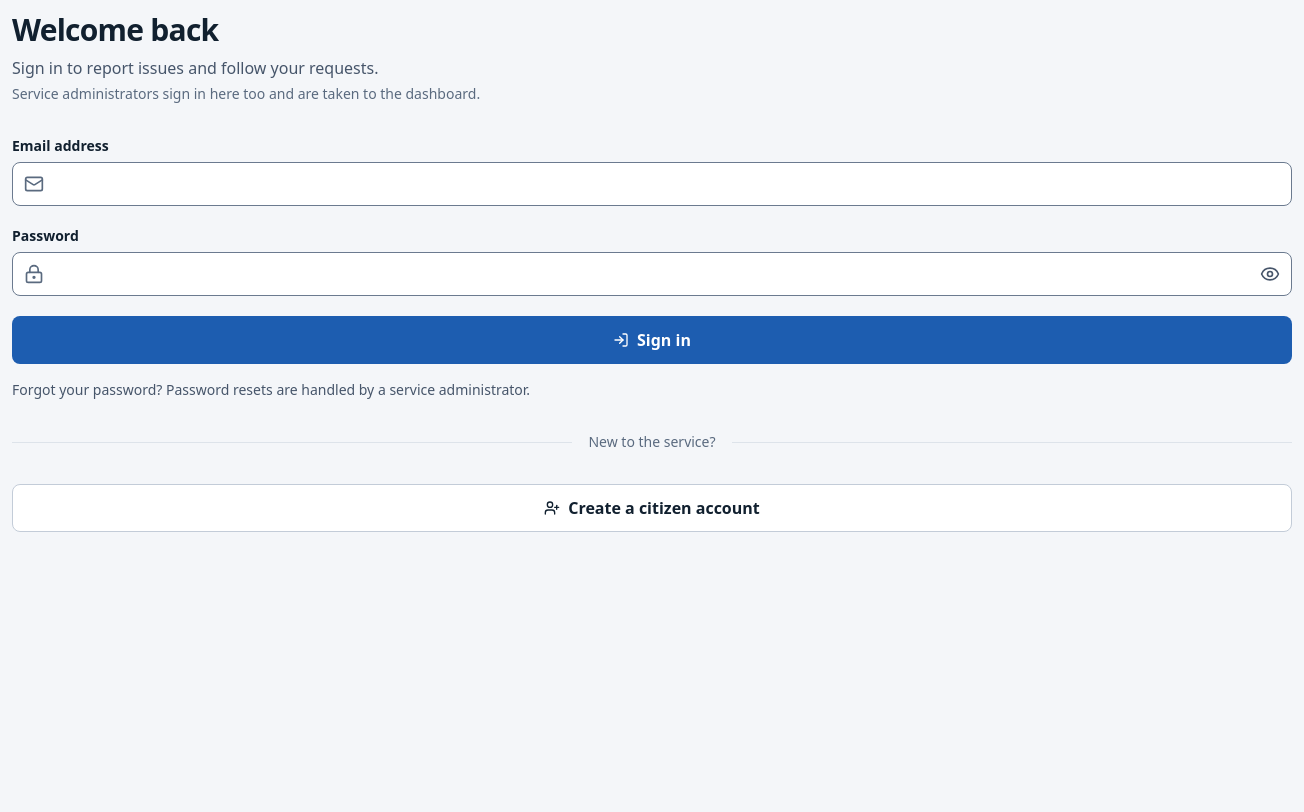
Test: LoginPage › shows the server's generic message for wrong credentials
The width and height of the screenshot is (1304, 812).
Type "amina@example.test" into the field labelled "Email address" at (652, 184), box [12,162,1292,206]
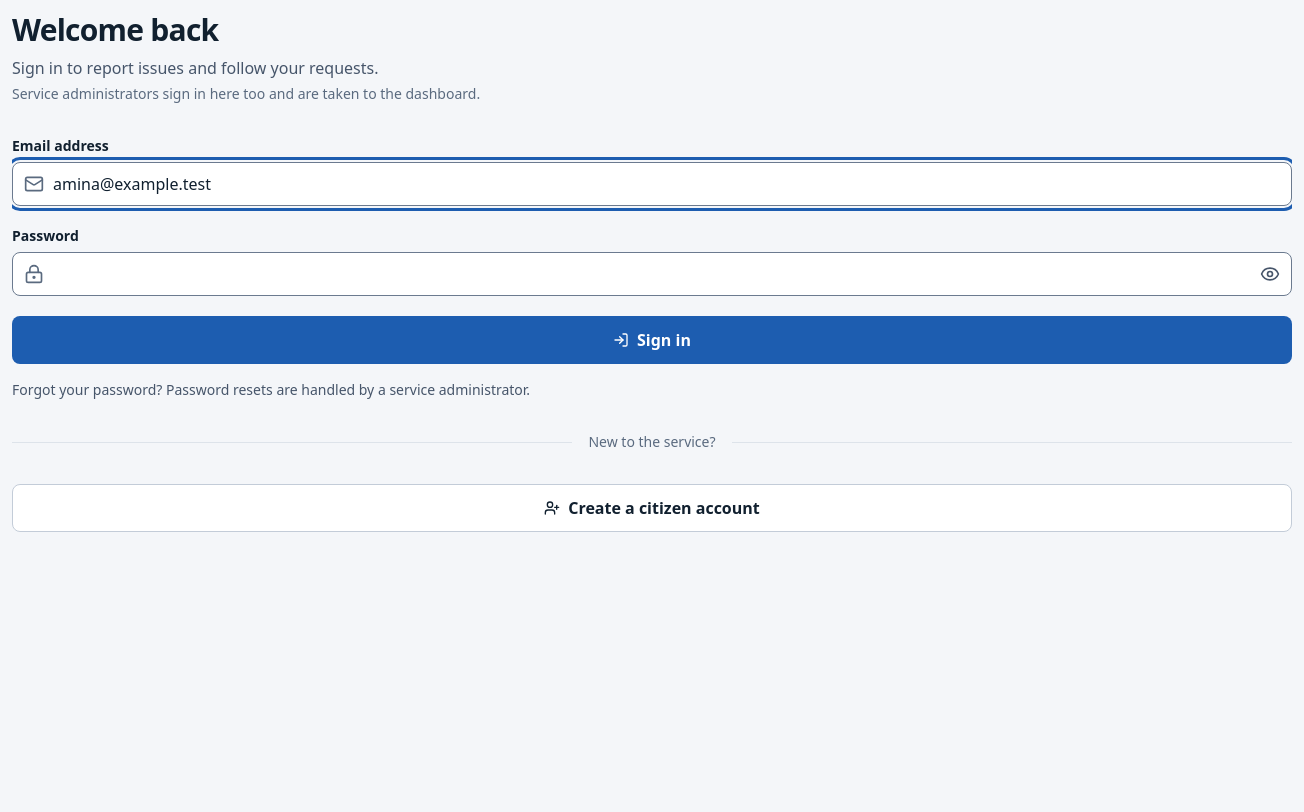
Type "wrong-pass-1" into the password field labelled "Password" at (652, 274), box [12,252,1292,296]
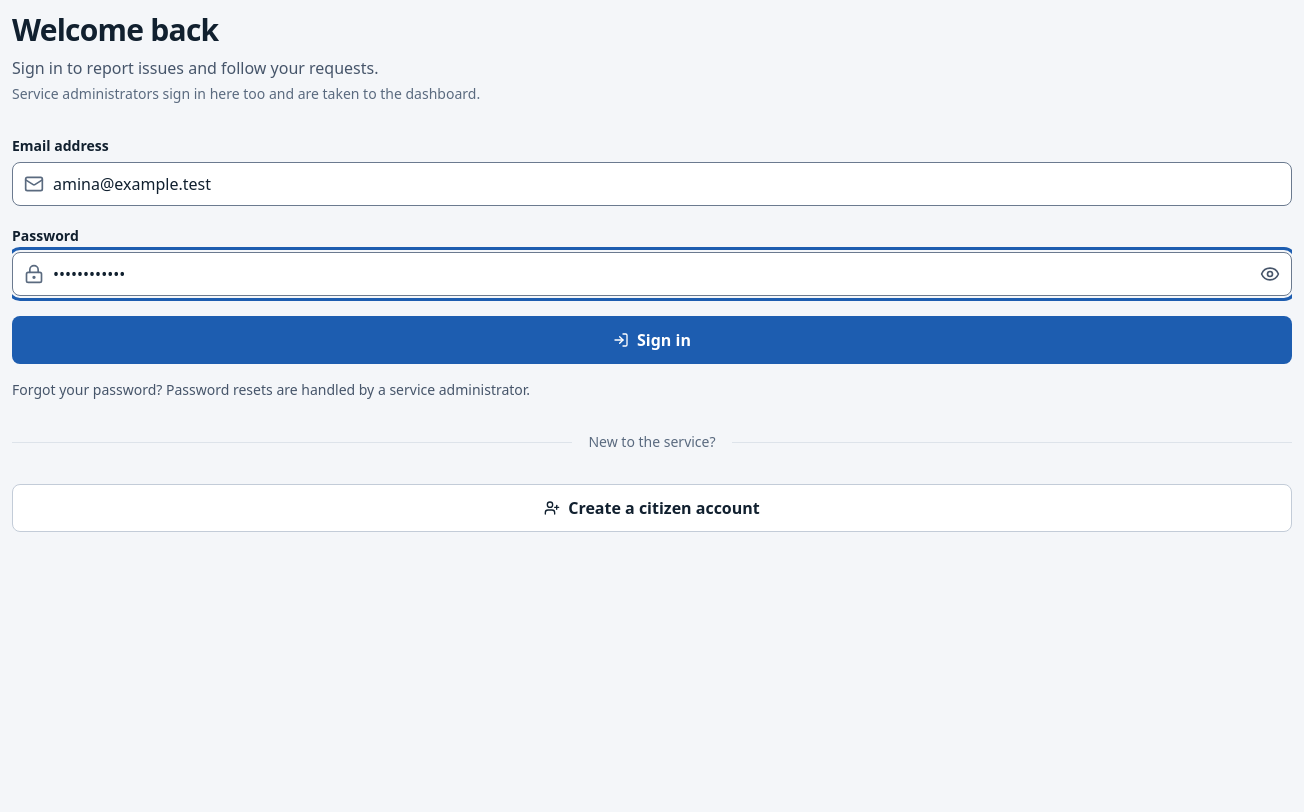
Click the button "Sign in" at (652, 340), box [12,316,1292,364]
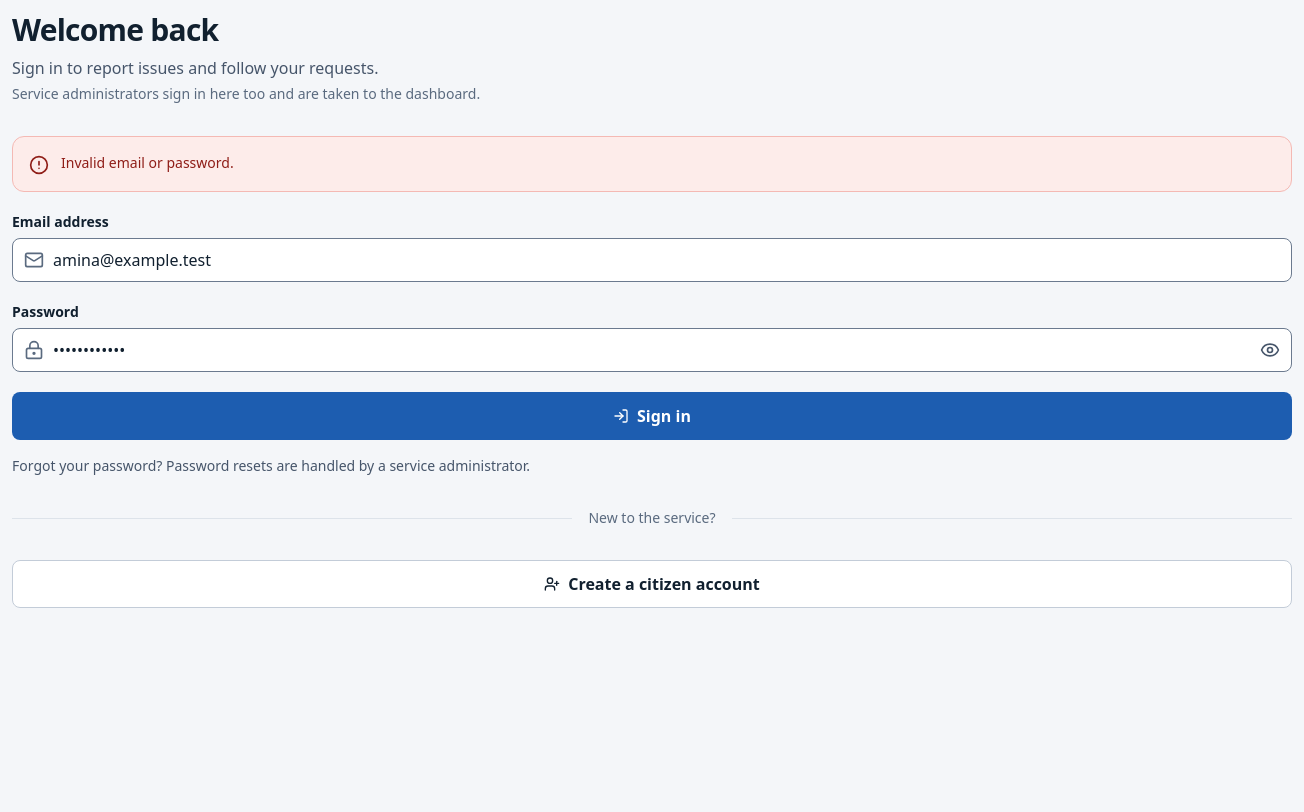
Now the text "Invalid email or password." is shown, box [12,136,1292,192]
